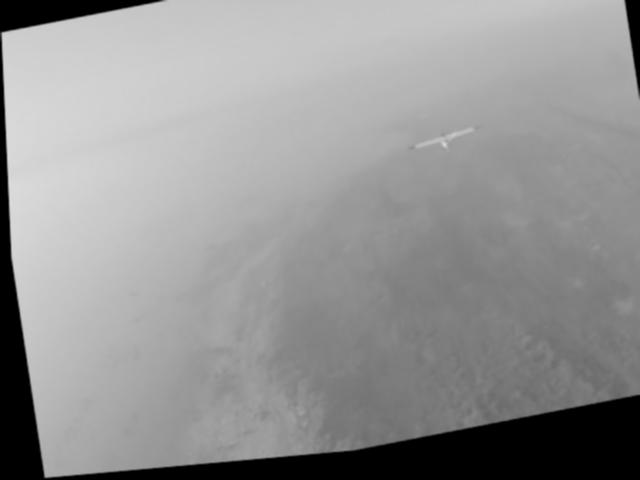hedef: (396, 112, 492, 181)
